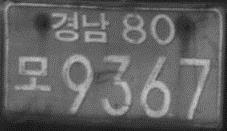0: (148, 12, 176, 47)
3: (100, 52, 133, 116)
6: (138, 53, 172, 118)
7: (177, 55, 212, 122)
8: (120, 10, 147, 45)
9: (61, 52, 95, 114)
경남_O: (49, 10, 109, 43)
모: (11, 54, 52, 93)
